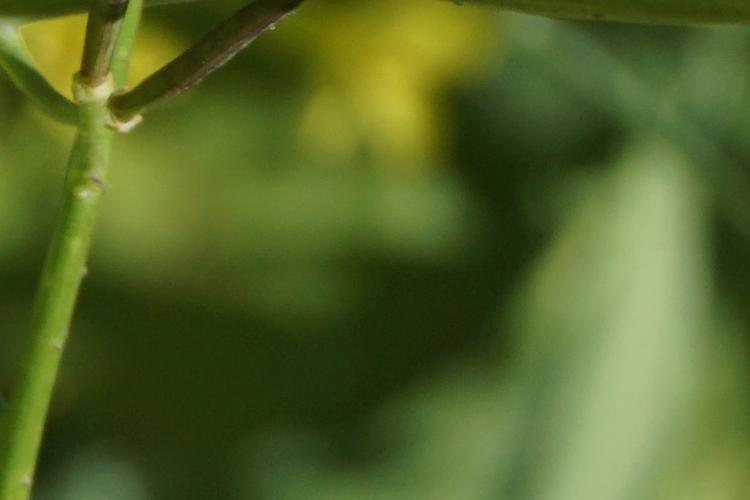pod: (107, 2, 329, 140)
